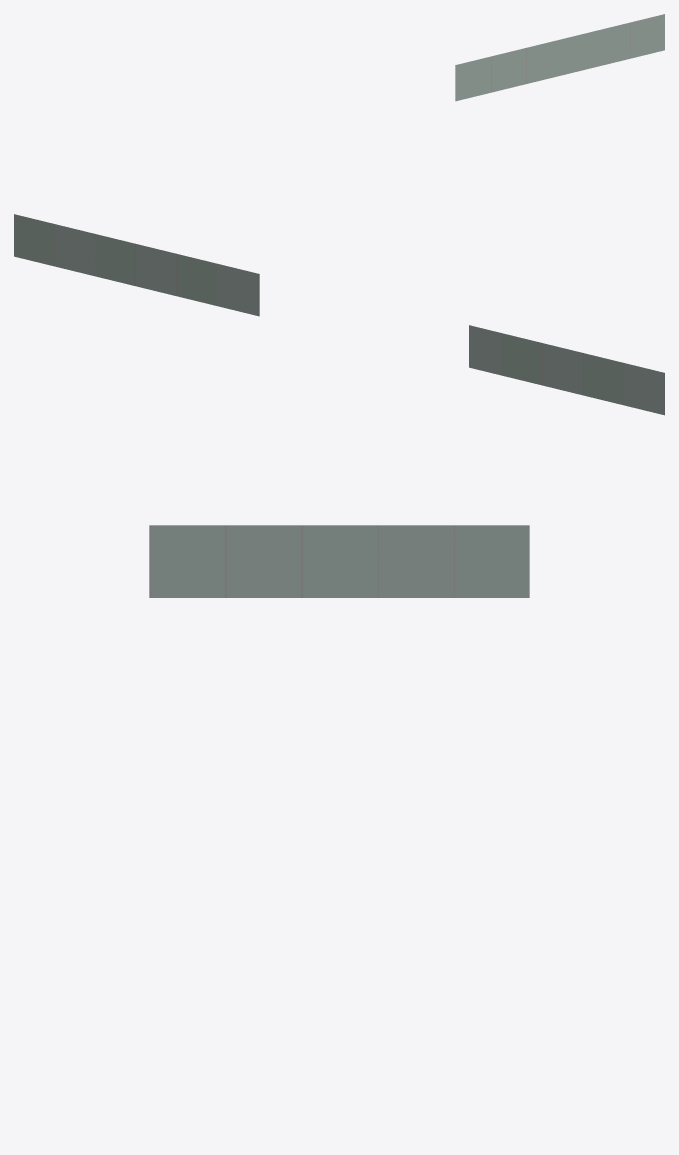
Rendered from kd_stage_135ded_4_111_exterior.glb.
3 renders of one model, top to bottom at view 1: azimuth 30°, elevation 25°; view 2: azimuth 150°, elevation 25°; view 3: azimuth 270°, elevation 25°, orthographic. The views are drawn at different scales.
Visible parts, largest first — view 1: kd_stage_135ded_4_111_exterior; view 2: kd_stage_135ded_4_111_exterior; view 3: kd_stage_135ded_4_111_exterior.
Part boxes in pixels (left/top/right/bottom): kd_stage_135ded_4_111_exterior: left=455, top=14, right=664, bottom=101; kd_stage_135ded_4_111_exterior: left=14, top=214, right=664, bottom=415; kd_stage_135ded_4_111_exterior: left=149, top=525, right=529, bottom=597.
Bounding box in the file's own units: 3.19 × 0.1988 × 0.9435.
Materials: 1 (1 with a texture image).
